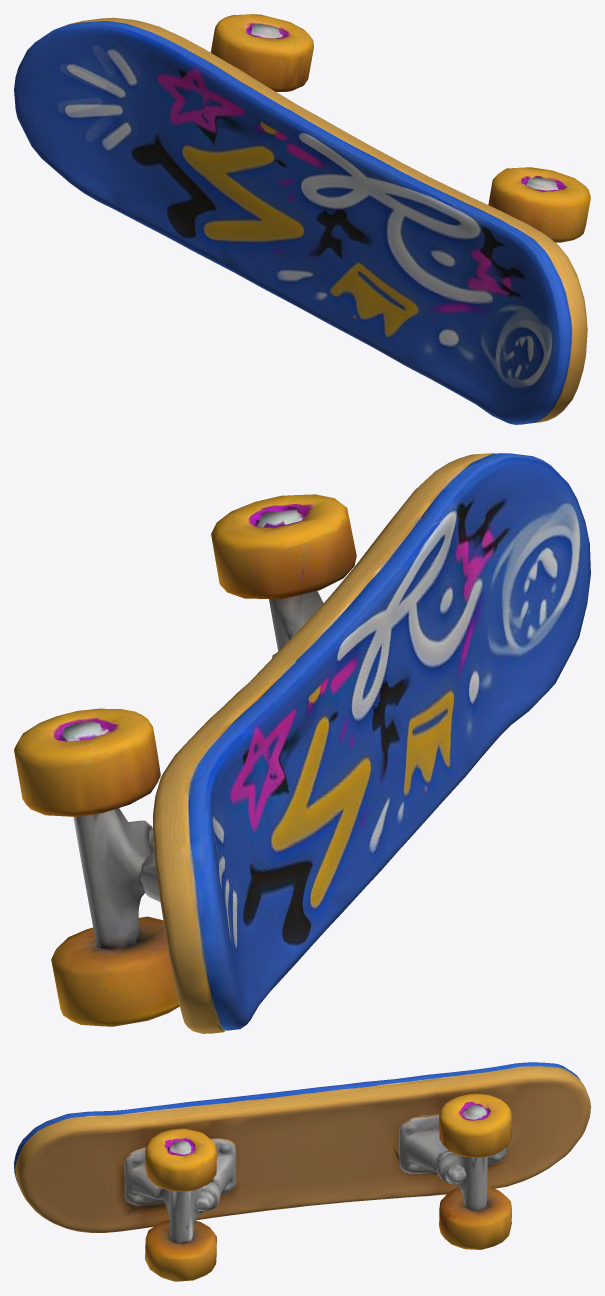
Rendered from blueskateboard3d.glb.
The picture shows the model from 3 angles, top to bottom: view 1: azimuth 30°, elevation 25°; view 2: azimuth 150°, elevation 25°; view 3: azimuth 270°, elevation 25°; orthographic projection. The views are drawn at different scales.
Parts seen in each view (by area): view 1: deck, wheel; view 2: deck, wheel, truck; view 3: deck, wheel, truck.
Boxes of the visible parts, x1=… form: deck: x1=14, y1=17, x2=587, y2=424; wheel: x1=210, y1=14, x2=590, y2=242; deck: x1=153, y1=453, x2=590, y2=1033; wheel: x1=14, y1=494, x2=356, y2=1026; truck: x1=73, y1=591, x2=323, y2=949; deck: x1=14, y1=1062, x2=590, y2=1232; wheel: x1=145, y1=1093, x2=511, y2=1281; truck: x1=125, y1=1114, x2=506, y2=1243.
Bounding box in the file's own units: 0.4063 × 0.2925 × 1.
3 materials, 3 textured.
